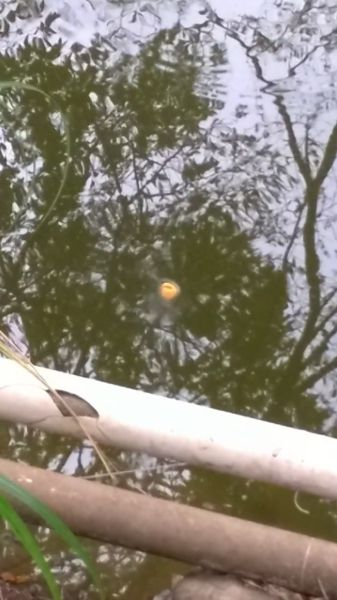eggs: (155, 279, 184, 303)
